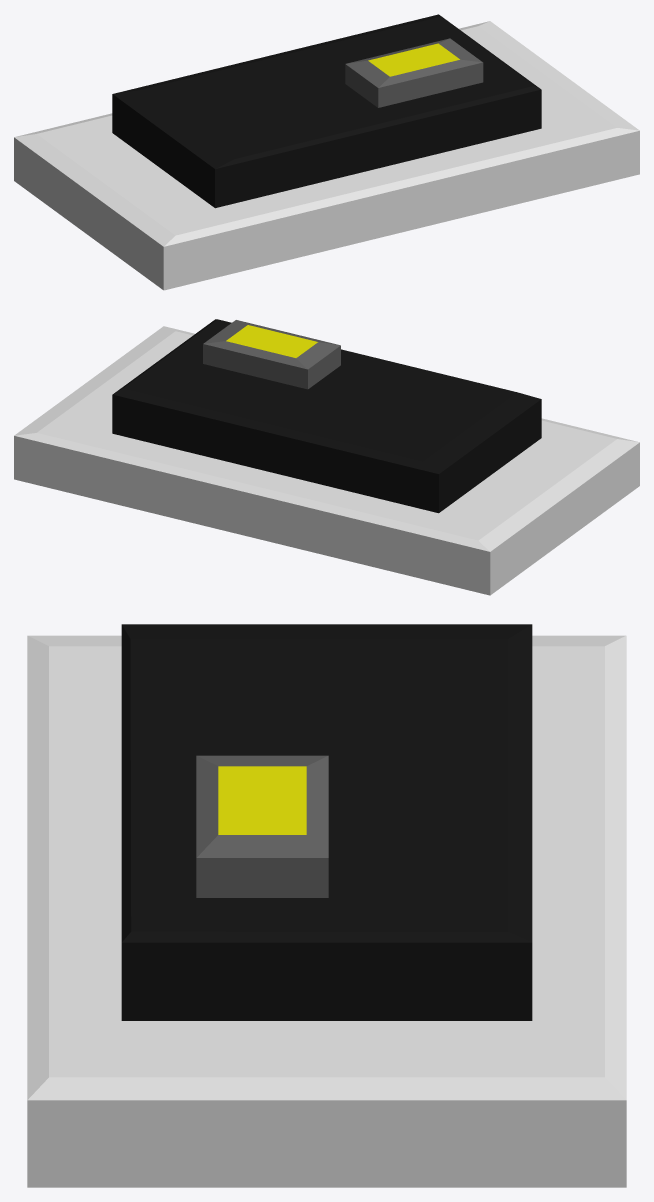
The model's file is BuzzCardScanner.fbx.
The picture shows the model from 3 angles, top to bottom: view 1: azimuth 30°, elevation 25°; view 2: azimuth 150°, elevation 25°; view 3: azimuth 270°, elevation 25°; orthographic projection. The views are drawn at different scales.
Parts seen in each view (by area): view 1: Cube.028; view 2: Cube.028; view 3: Cube.028.
Boxes of the visible parts, bbox=[...] form: Cube.028: bbox=[14, 14, 639, 290]; Cube.028: bbox=[14, 319, 639, 595]; Cube.028: bbox=[27, 624, 626, 1187].
Size of the model in its own units: 126 by 28.21 by 68.36.
